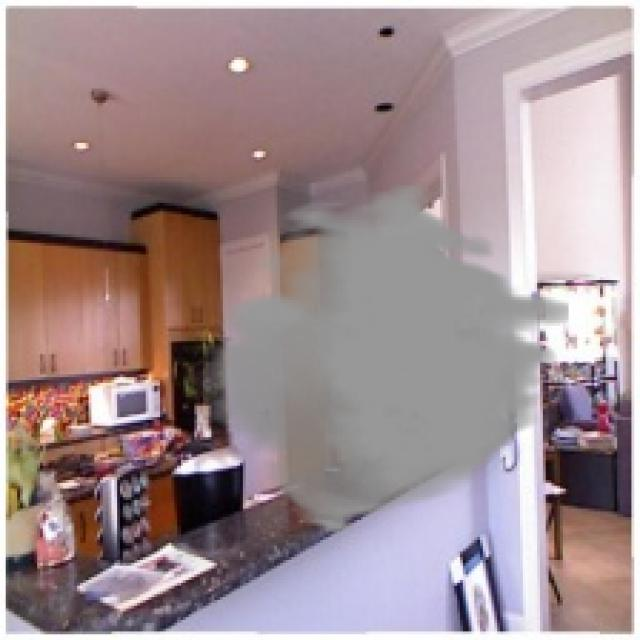smoke: (203, 183, 568, 534)
